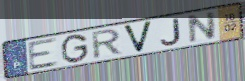E: (27, 36, 61, 72)
G: (61, 33, 90, 64)
J: (160, 17, 183, 47)
N: (188, 9, 218, 44)
R: (91, 27, 125, 61)
V: (121, 20, 155, 54)
